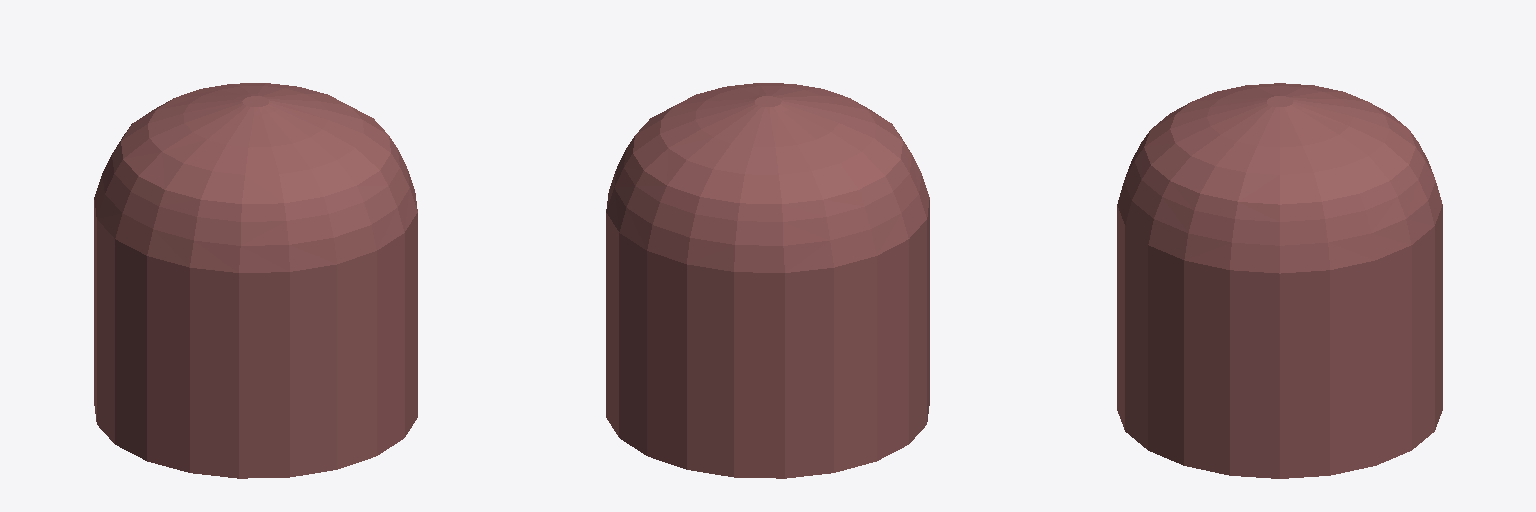
Rendered from ghost1.obj.
The picture shows the model from 3 angles: view 1: azimuth 30°, elevation 25°; view 2: azimuth 150°, elevation 25°; view 3: azimuth 270°, elevation 25°; orthographic projection.
Parts seen in each view (by area): view 1: pCylinder1; view 2: pCylinder1; view 3: pCylinder1.
Part boxes in pixels (x1,y1,x2,y2): pCylinder1: (94, 83, 417, 478); pCylinder1: (606, 83, 929, 478); pCylinder1: (1117, 83, 1442, 478).
Size of the model in its own units: 18 by 18.83 by 18.